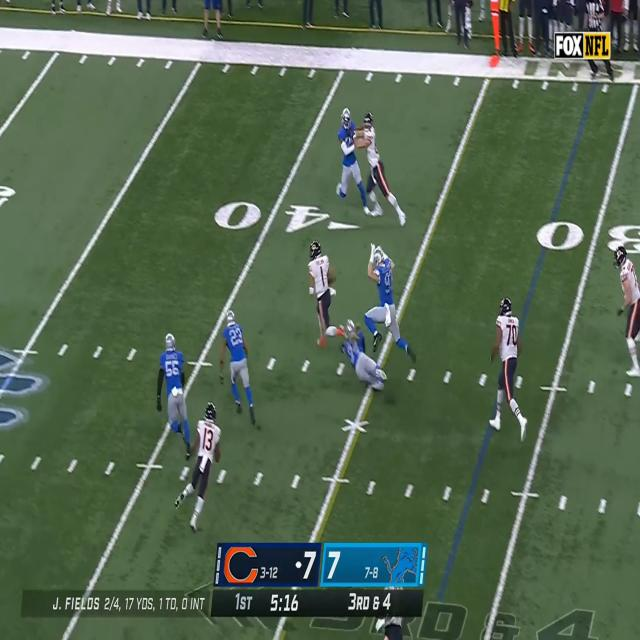players: (486, 296, 530, 439), (362, 258, 414, 377), (356, 116, 410, 226), (336, 320, 386, 434), (220, 310, 264, 434), (181, 406, 224, 529), (155, 332, 193, 466), (309, 243, 341, 353), (616, 246, 640, 378), (337, 112, 366, 205)
